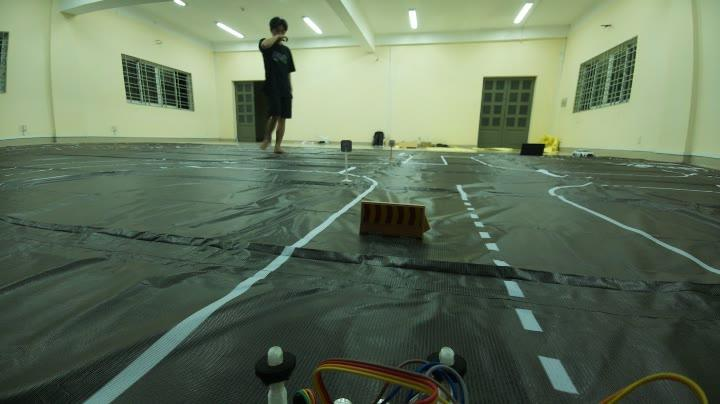roadblock: (349, 193, 434, 249)
